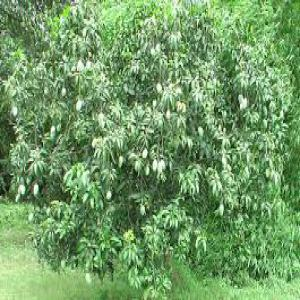Tree: (4, 2, 299, 290)
